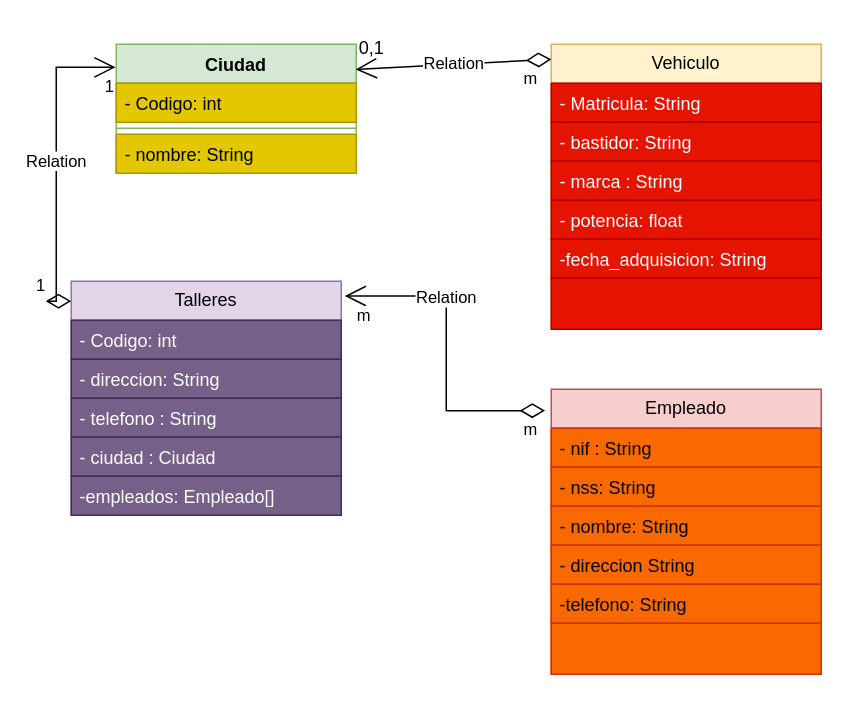
Some shapes in this 848 by 704 pixel diagram are drawn without their labels. Here are the shapes that lost their labels. From the top down, the centre of each, then its label:
At pixel 685 303: "-fecha_puesta_servicio: String".
At pixel 685 648: "-correo_electronico: String".
